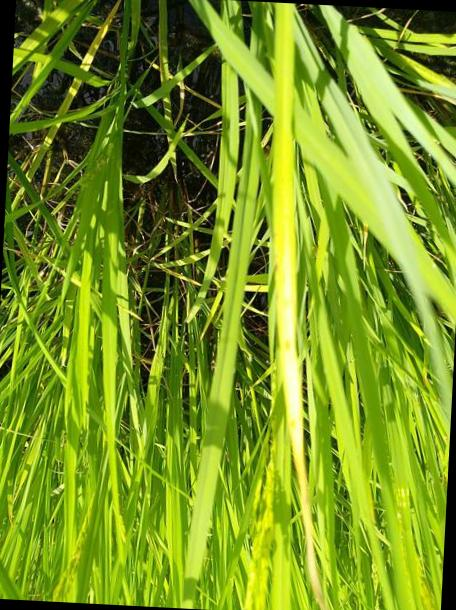Leaf Blight: (270, 2, 325, 609)
